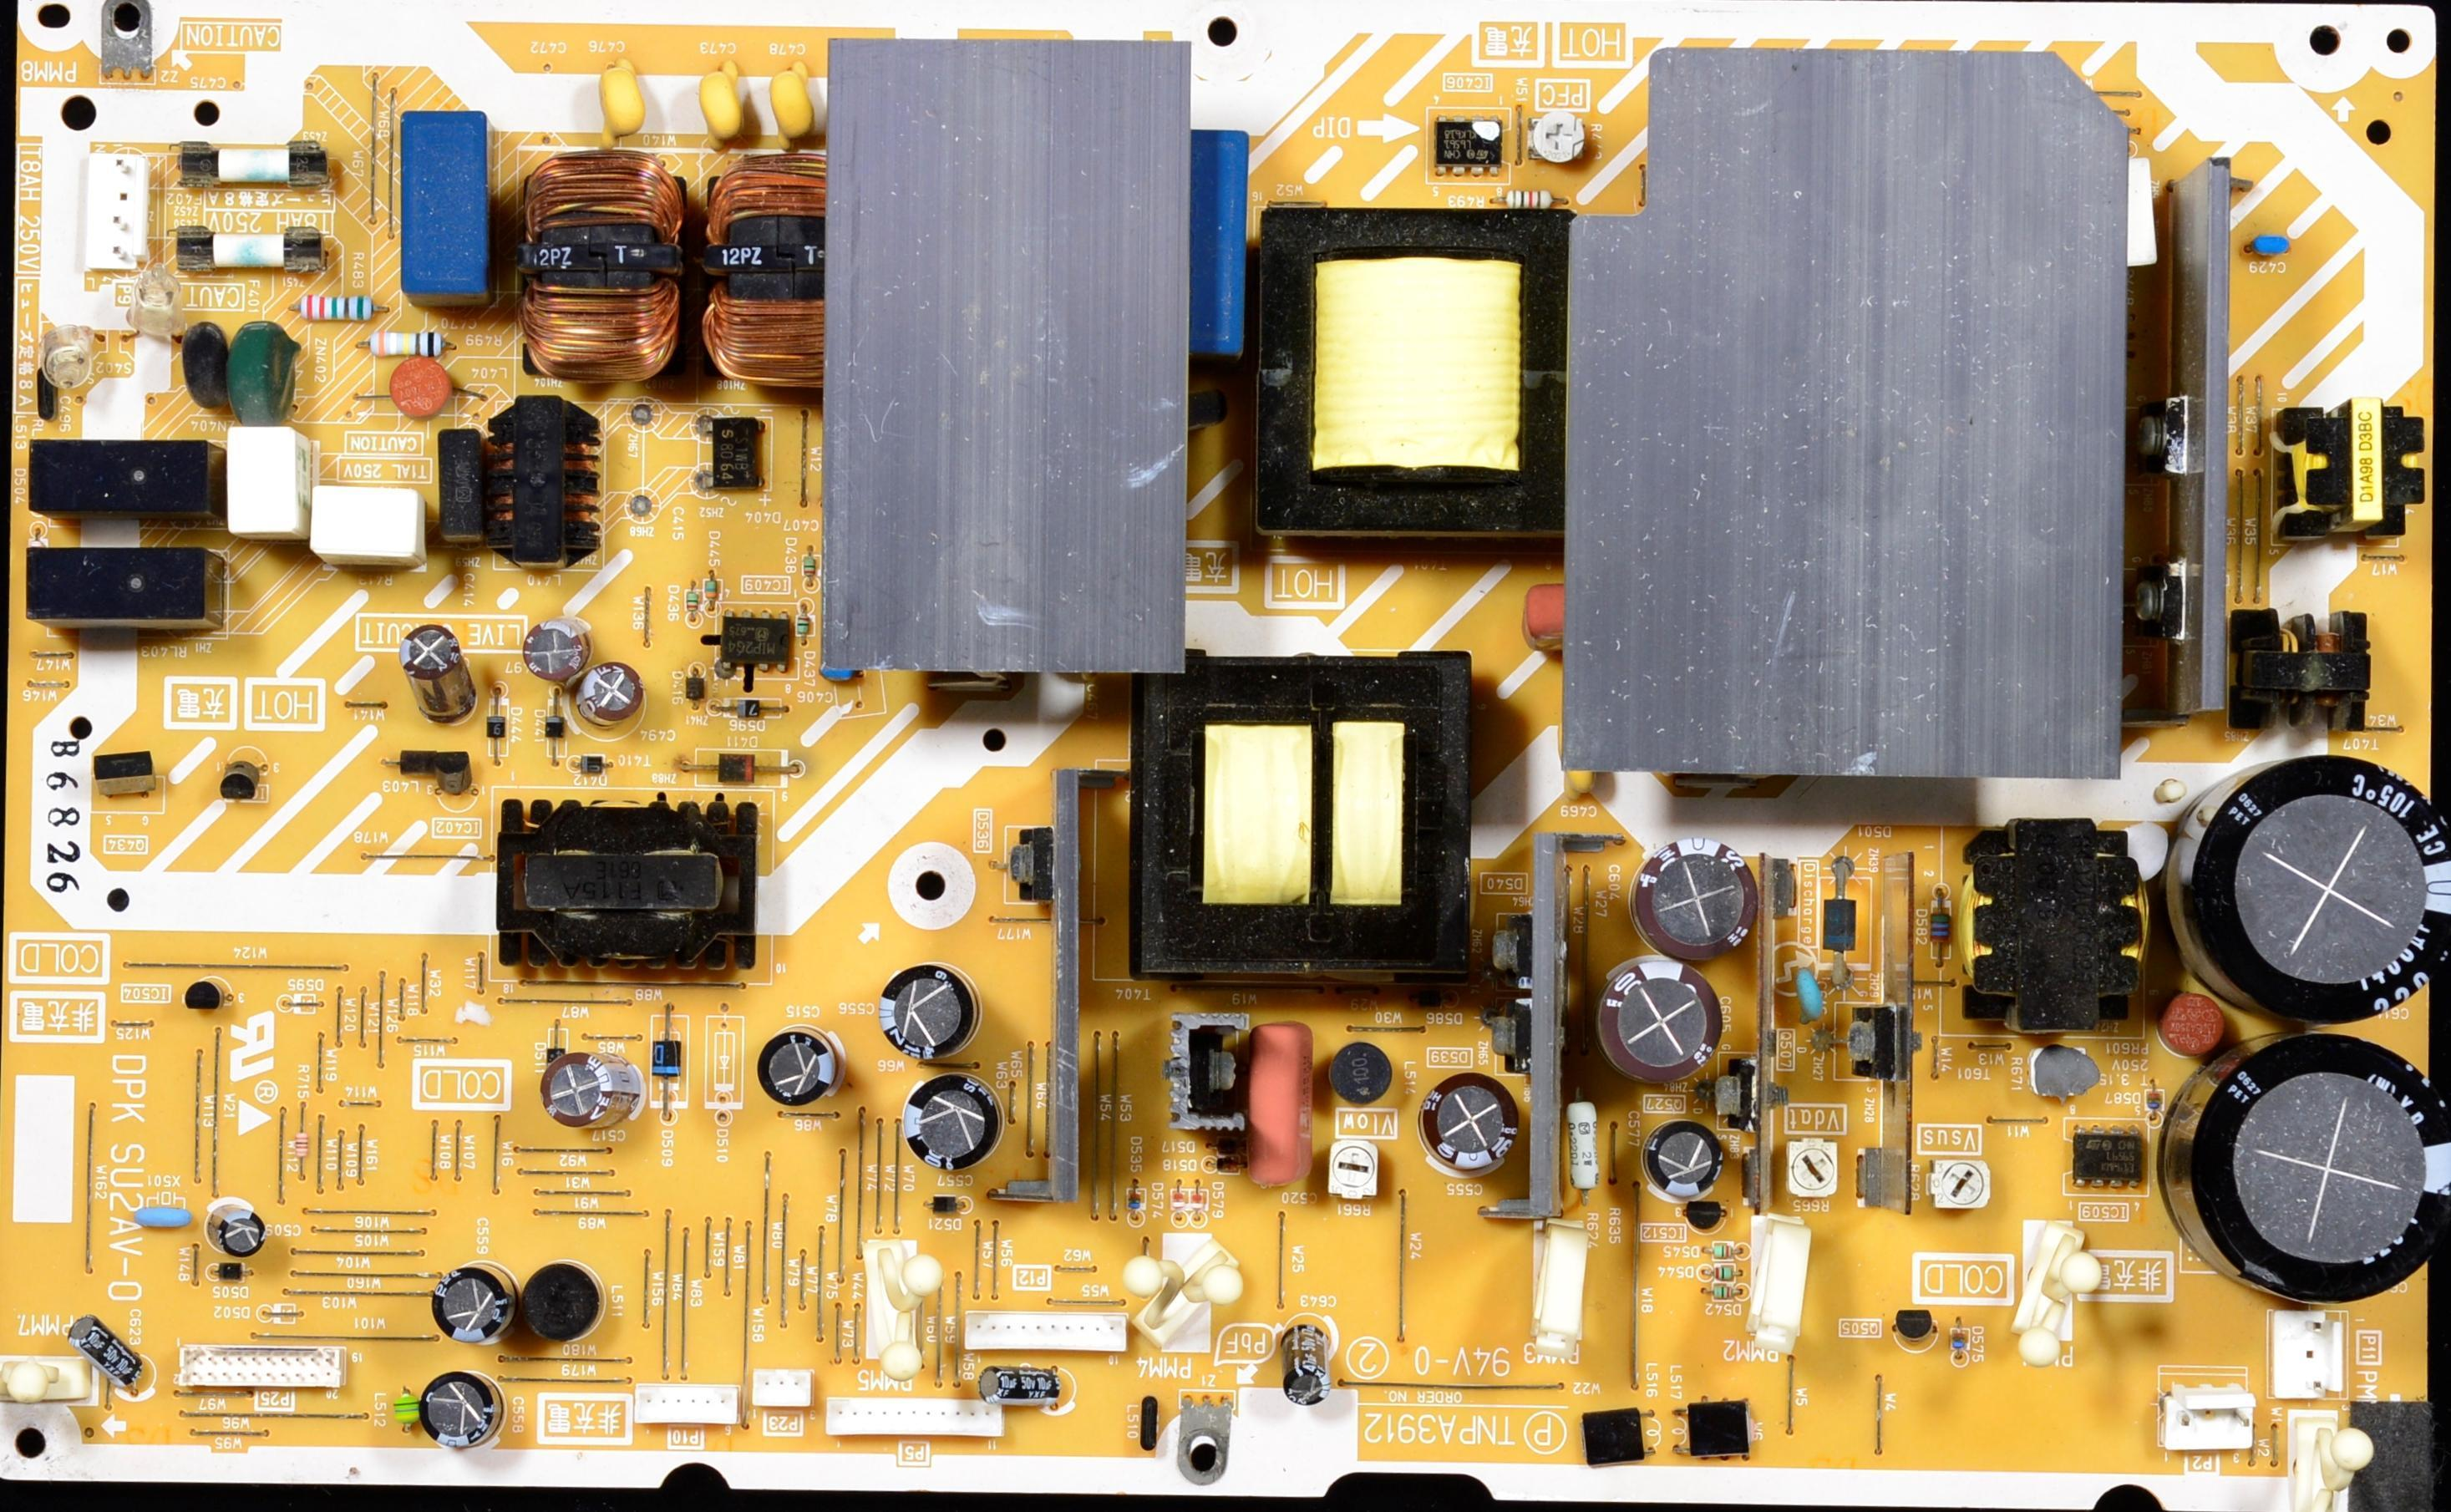Capacitor: (2174, 753, 2451, 1019), (2194, 1033, 2448, 1301), (1636, 845, 1756, 950), (1598, 968, 1718, 1065), (870, 960, 977, 1068), (1415, 1073, 1520, 1175), (899, 1074, 1005, 1171), (1255, 1023, 1309, 1187), (754, 1035, 831, 1107), (1645, 1134, 1728, 1193), (428, 1277, 501, 1339), (420, 1387, 495, 1444), (703, 57, 752, 148), (577, 659, 643, 723), (596, 54, 641, 143), (540, 1061, 602, 1124), (1552, 719, 1602, 793), (520, 621, 586, 675), (774, 65, 815, 147), (215, 1215, 263, 1253), (2245, 226, 2290, 264), (816, 657, 861, 686)
Resistor: (1932, 1153, 1990, 1214), (1330, 1139, 1377, 1210), (1789, 1141, 1839, 1200), (1569, 1097, 1597, 1197), (368, 327, 450, 360), (2032, 1048, 2087, 1098), (297, 293, 374, 323), (1492, 185, 1557, 210)
